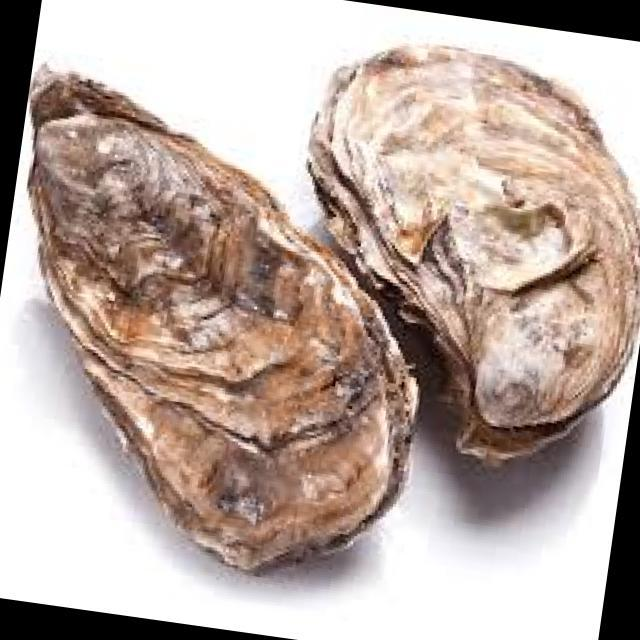Oyster- Indeterminate: (29, 66, 418, 570), (309, 49, 640, 463)
